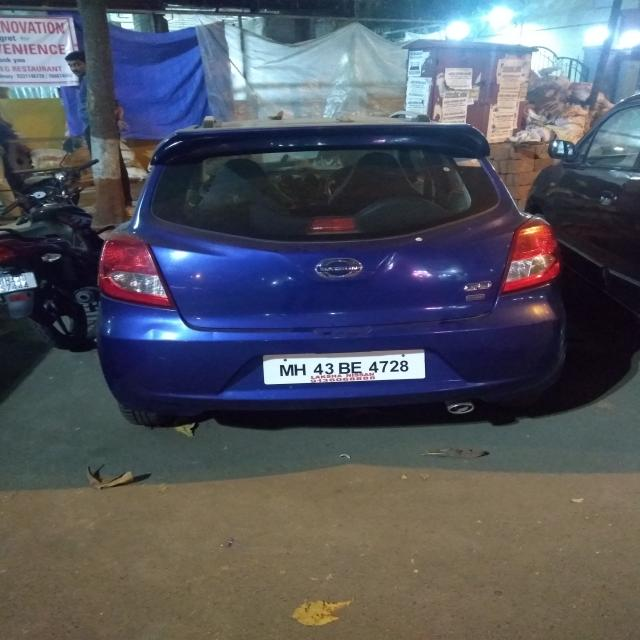Number-Plate: (269, 354, 422, 383)
